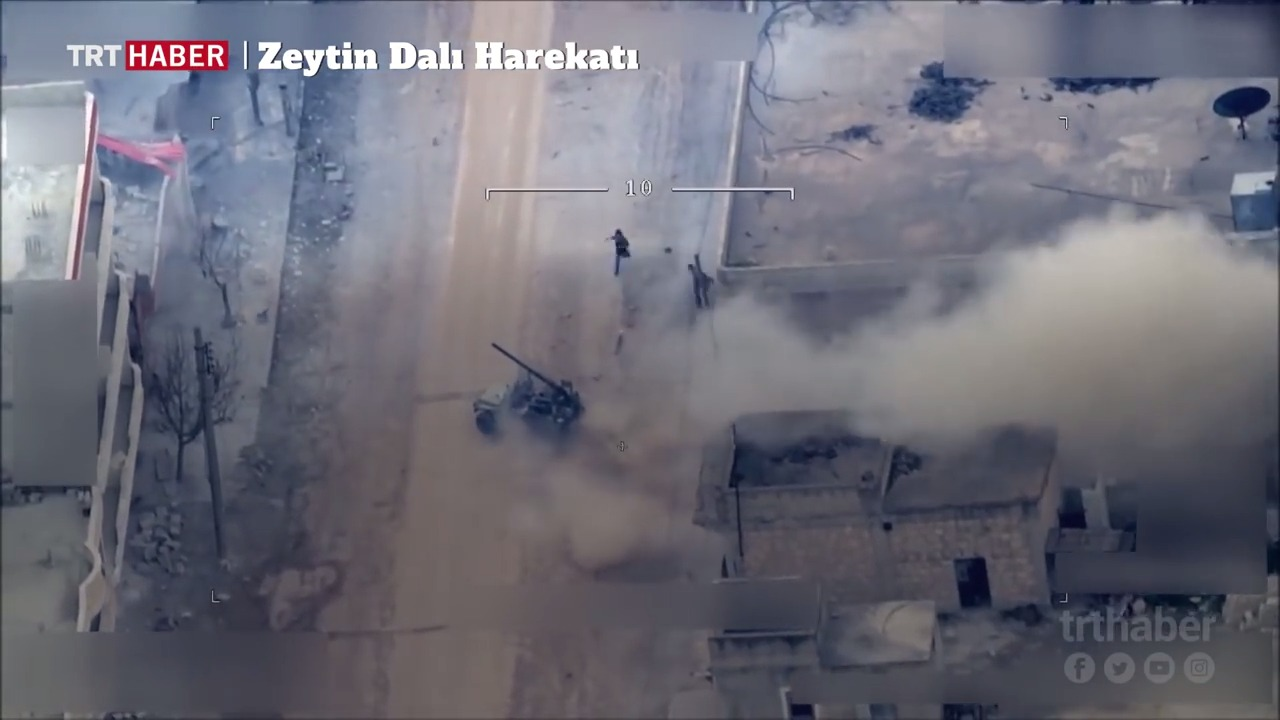arac: (468, 332, 588, 445)
insan: (688, 251, 717, 309), (606, 224, 633, 277)
